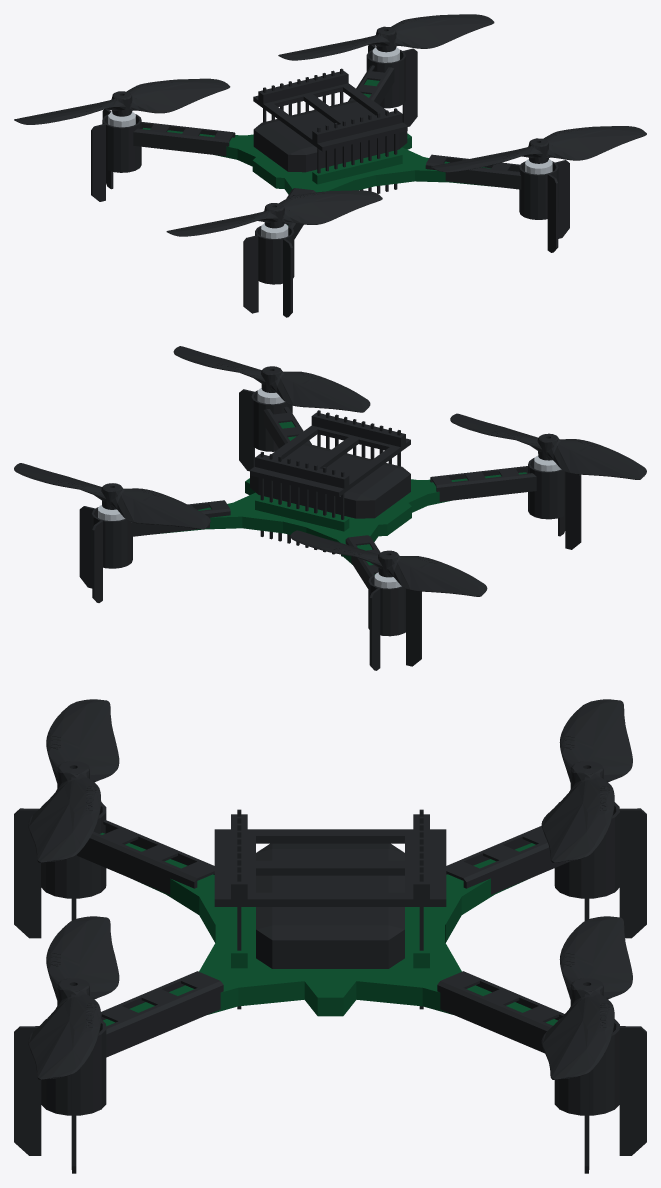
File: scout_drone_crazyflie_21_plus.glb
3 renders of one model, top to bottom at view 1: azimuth 30°, elevation 25°; view 2: azimuth 150°, elevation 25°; view 3: azimuth 270°, elevation 25°, orthographic. The views are drawn at different scales.
Visible parts, largest first — view 1: part_scout_drone_crazyflie_21_plus__black_polymer, part_scout_drone_crazyflie_21_plus__pcb, propeller_3, propeller_1, propeller_2, propeller_4, part_scout_drone_crazyflie_21_plus__steel; view 2: part_scout_drone_crazyflie_21_plus__black_polymer, part_scout_drone_crazyflie_21_plus__pcb, propeller_2, propeller_1, propeller_3, propeller_4, part_scout_drone_crazyflie_21_plus__steel; view 3: part_scout_drone_crazyflie_21_plus__black_polymer, part_scout_drone_crazyflie_21_plus__pcb, propeller_1, propeller_3, propeller_4, propeller_2.
Boxes of the visible parts, x1,y1,x2,y2 form: part_scout_drone_crazyflie_21_plus__black_polymer: (91, 45, 569, 317); part_scout_drone_crazyflie_21_plus__pcb: (142, 79, 498, 225); propeller_3: (14, 78, 230, 124); propeller_1: (278, 14, 494, 60); propeller_2: (430, 126, 646, 172); propeller_4: (166, 190, 382, 236); part_scout_drone_crazyflie_21_plus__steel: (108, 47, 552, 238); part_scout_drone_crazyflie_21_plus__black_polymer: (79, 389, 581, 670); part_scout_drone_crazyflie_21_plus__pcb: (156, 421, 526, 574); propeller_2: (173, 346, 370, 412); propeller_1: (14, 463, 210, 529); propeller_3: (290, 530, 487, 596); propeller_4: (450, 413, 646, 479); part_scout_drone_crazyflie_21_plus__steel: (98, 388, 561, 588); part_scout_drone_crazyflie_21_plus__black_polymer: (14, 801, 646, 1173); part_scout_drone_crazyflie_21_plus__pcb: (100, 832, 557, 1026); propeller_1: (541, 916, 632, 1079); propeller_3: (541, 699, 632, 862); propeller_4: (28, 699, 119, 862); propeller_2: (28, 916, 119, 1079).
Size of the model in its own units: 0.1082 by 0.0272 by 0.0764.
